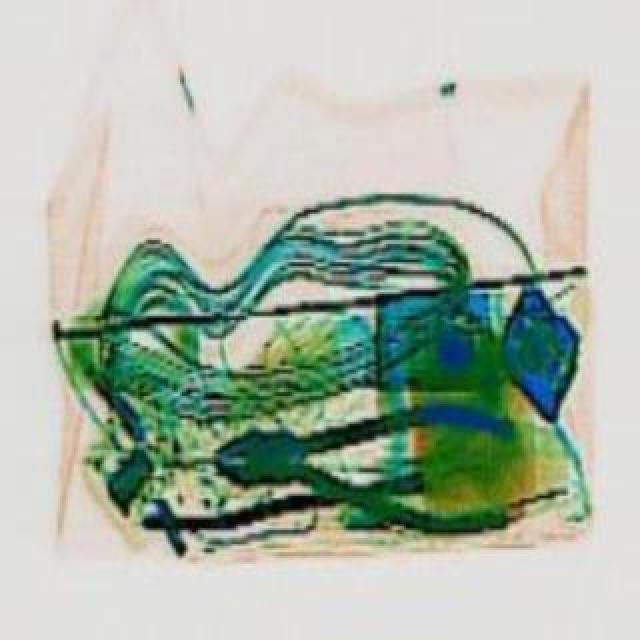wrench: (216, 392, 520, 528)
